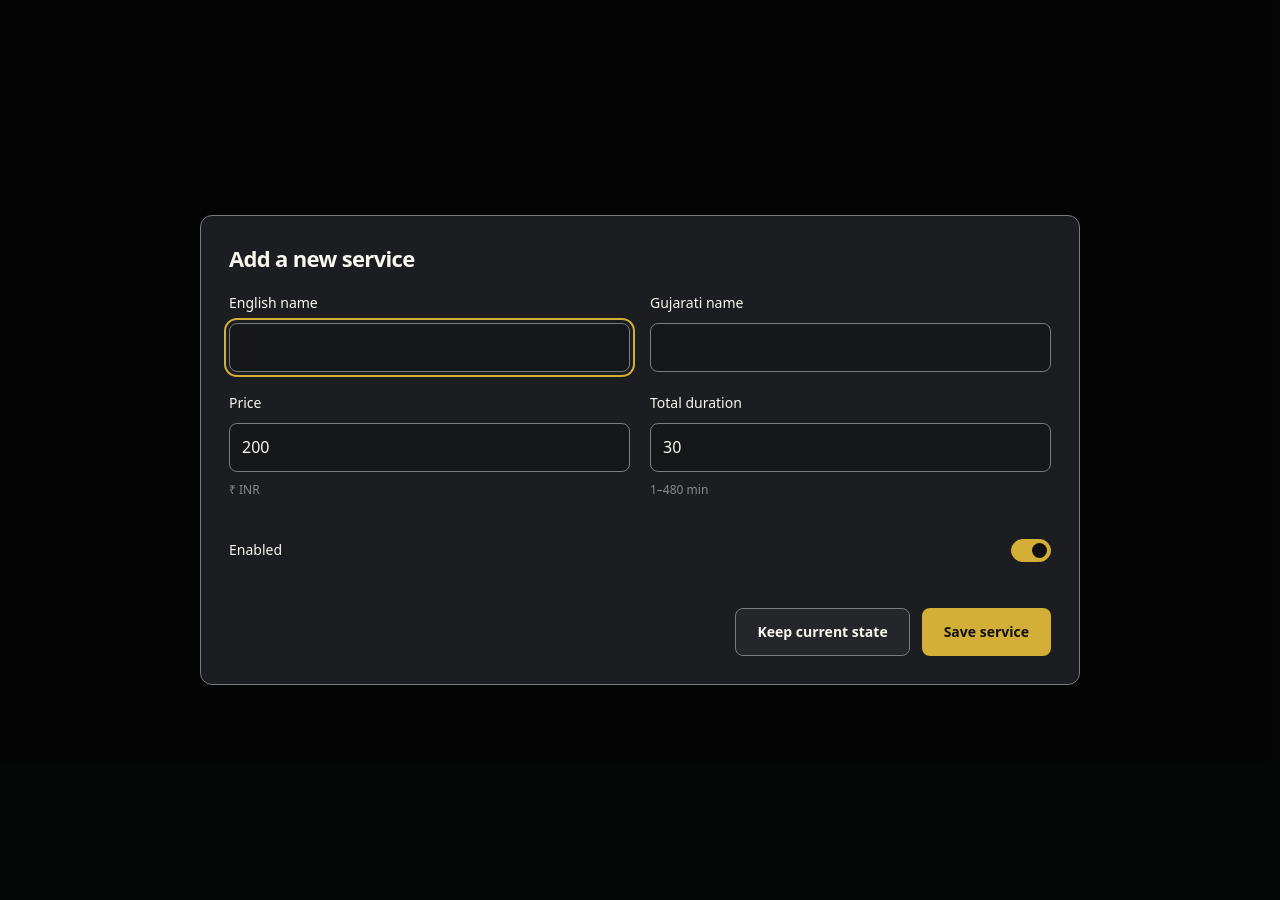
Test: Owner catalog matches the approved server bounds › rejects price 1 / duration 481 without silently rounding
Type "Haircut" into the field labelled "English name" at (430, 348), box [229,323,630,372]
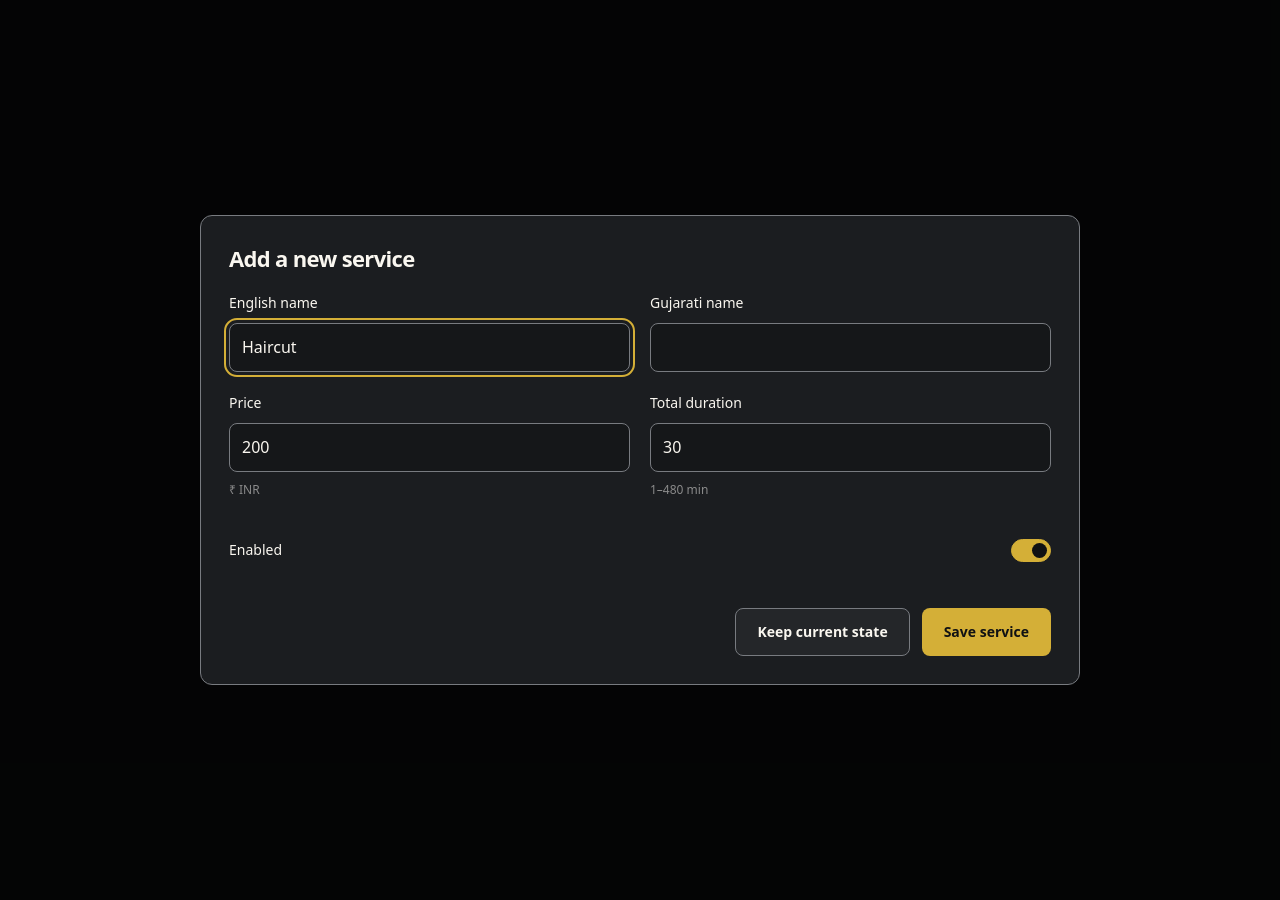
Type "હેરકટ" into the field labelled "Gujarati name" at (850, 348), box [650,323,1051,372]
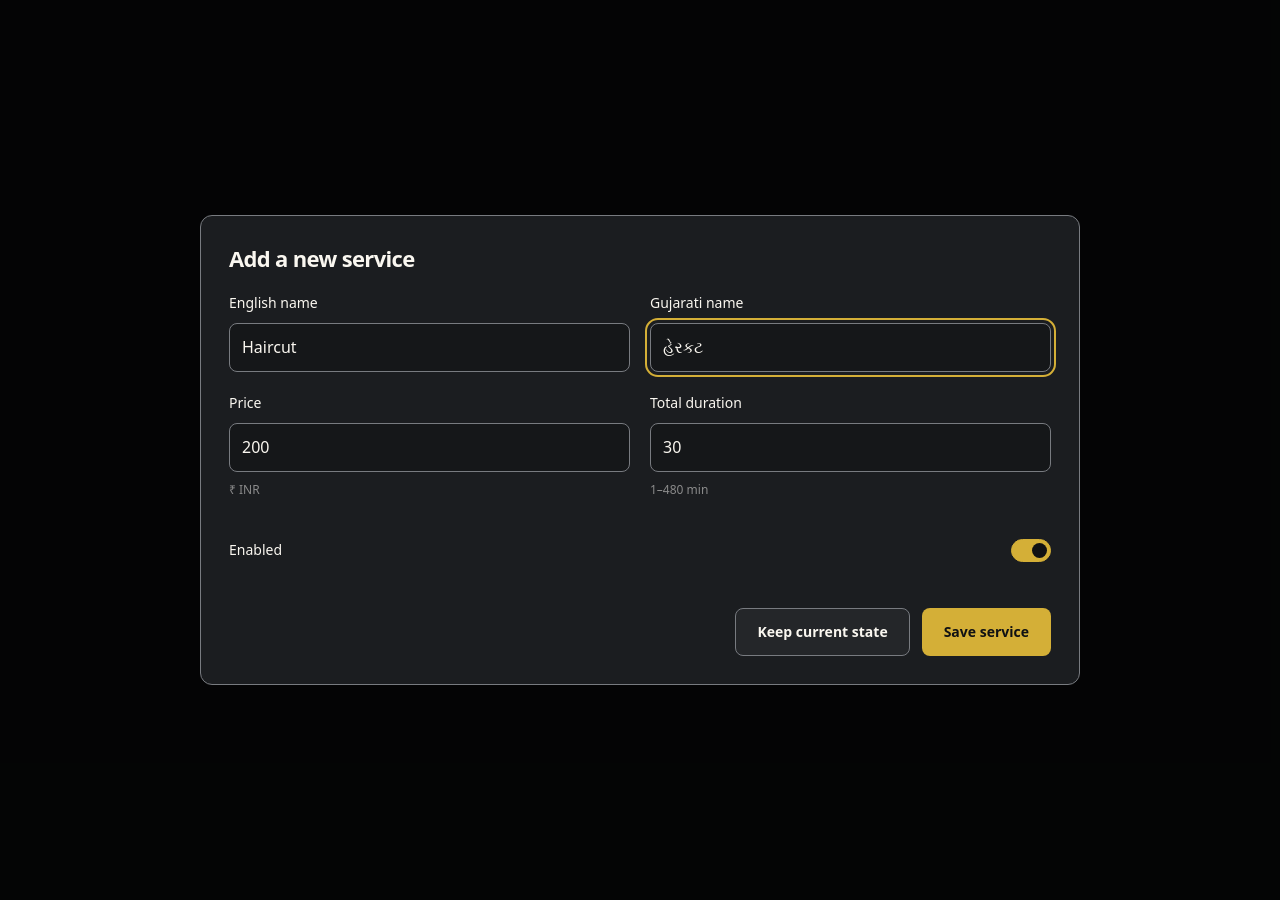
Replace the text in the number field labelled "Price" with "1" at (430, 448), box [229,423,630,472]
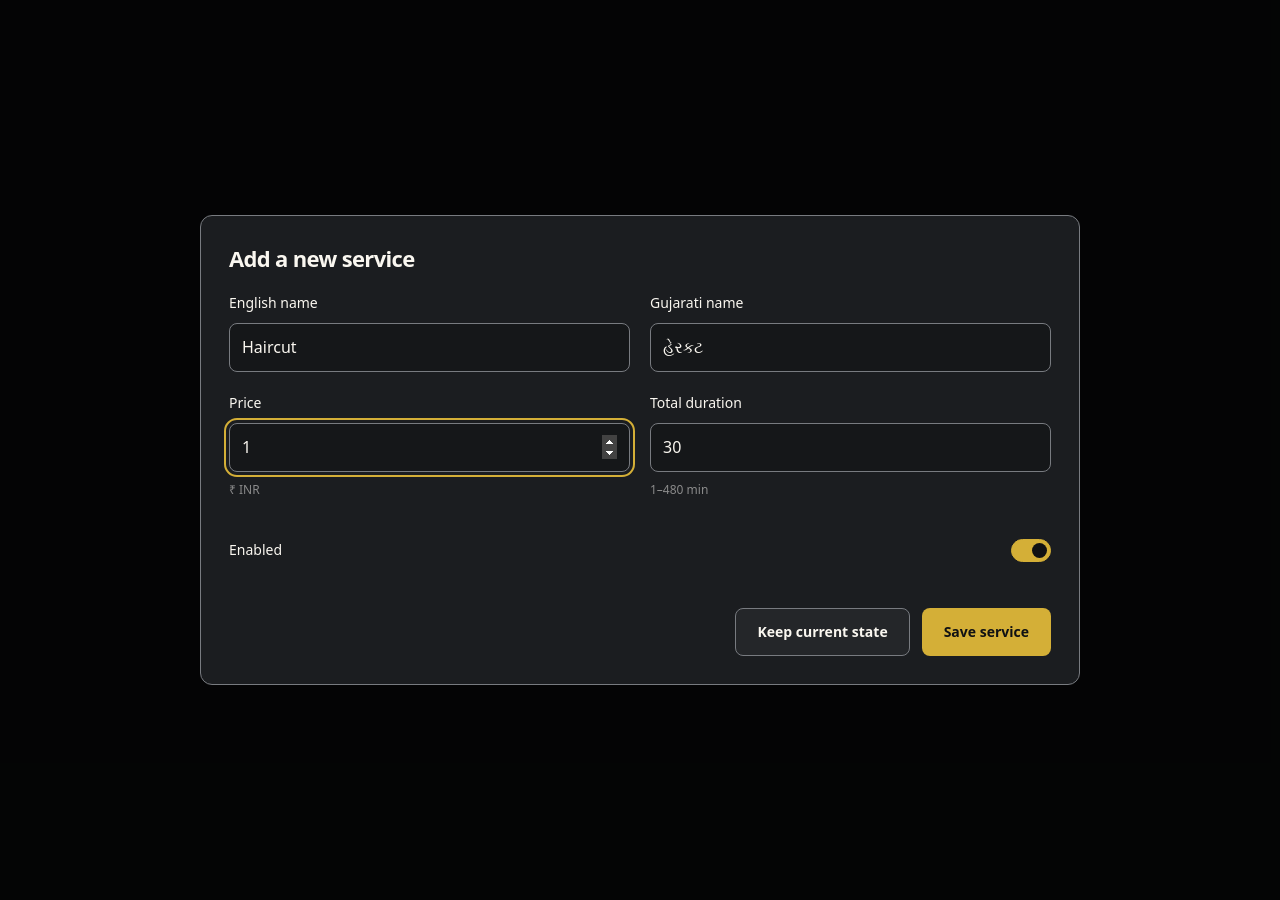
Replace the text in the number field labelled "Total duration" with "481" at (850, 448), box [650,423,1051,472]
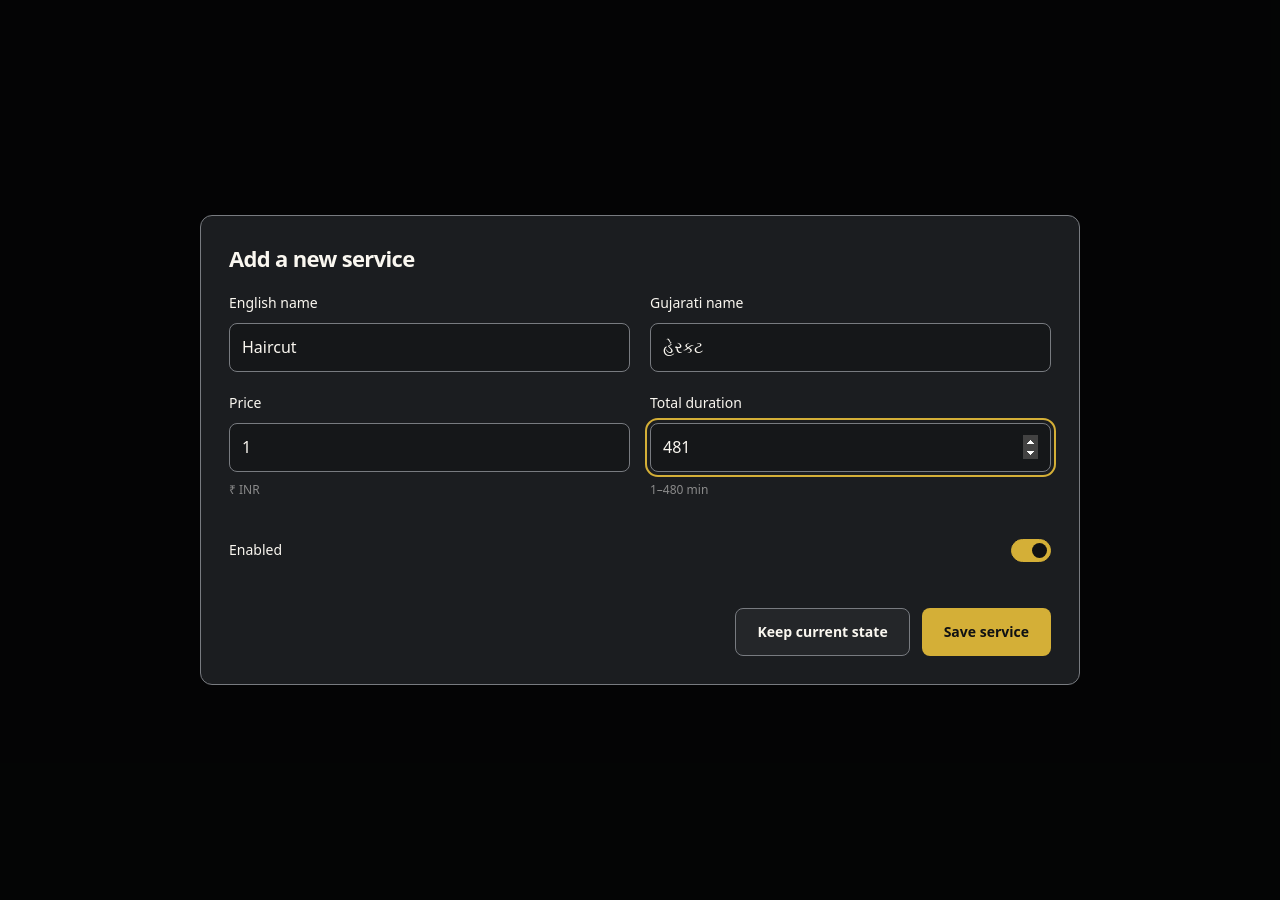
Click the button "Save service" at (986, 632), box [922,608,1051,656]
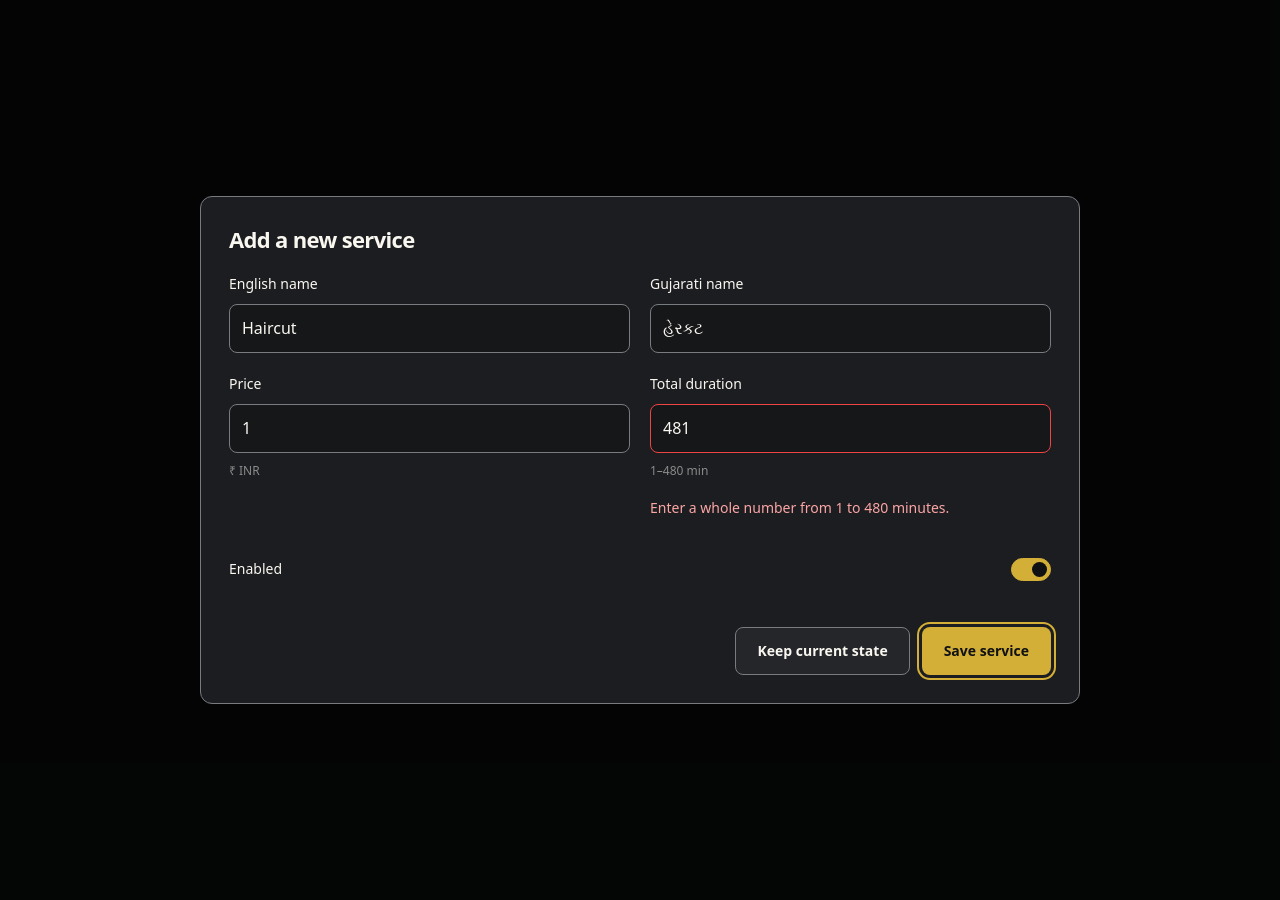
Expected: the text "Enter a whole number from 1 to 480 minutes." is shown, [650,498,949,517]
